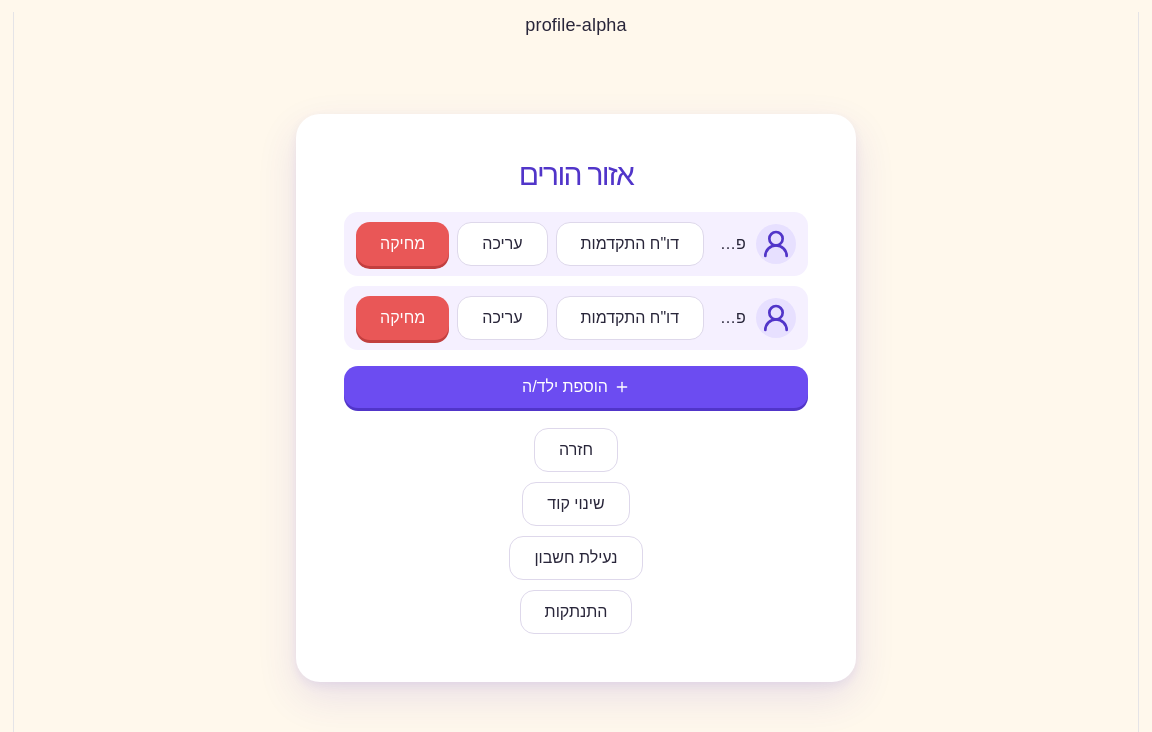
Test: ParentZonePage — gate hand-off › shows the localized lock error and stays unlocked when locking fails
Expected: the text "פרופיל אלפא" is shown, [716,231,746,257]
Click the button "נעילת חשבון": (576, 558) [509,536,642,580]
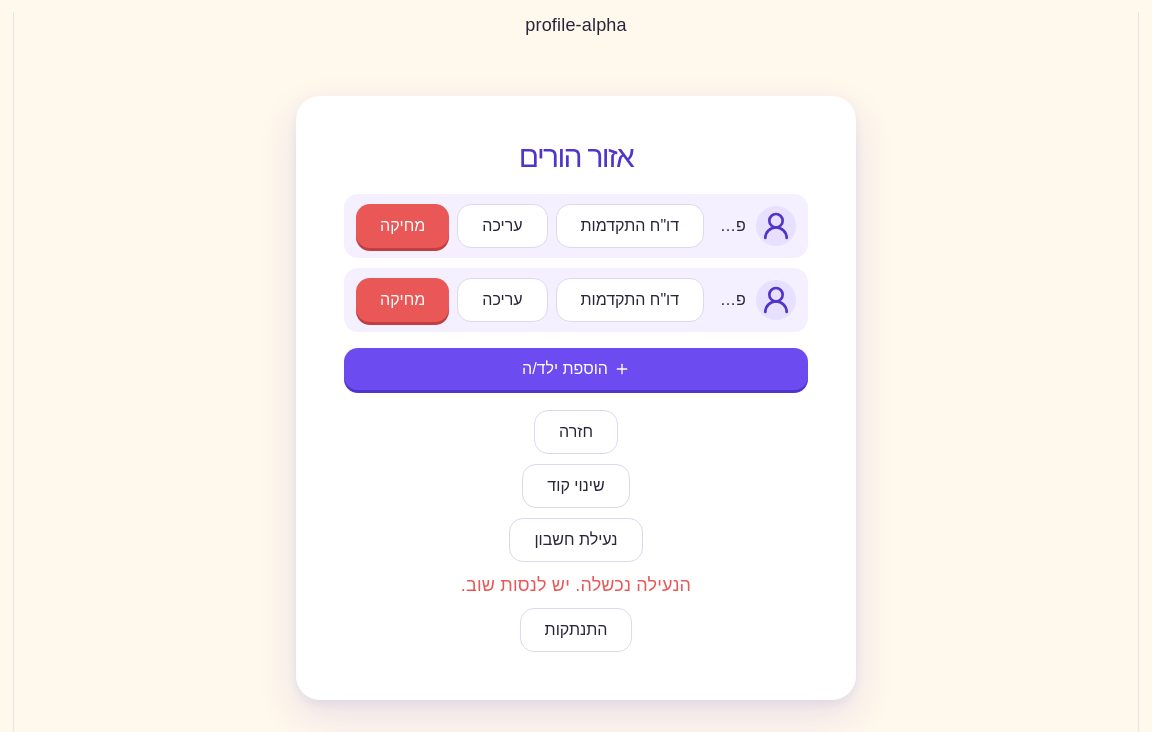
Expected: the text "פרופיל אלפא" is shown, [716,213,746,239]
Expected: the text "הנעילה נכשלה. יש לנסות שוב." is shown, [461,572,691,598]
